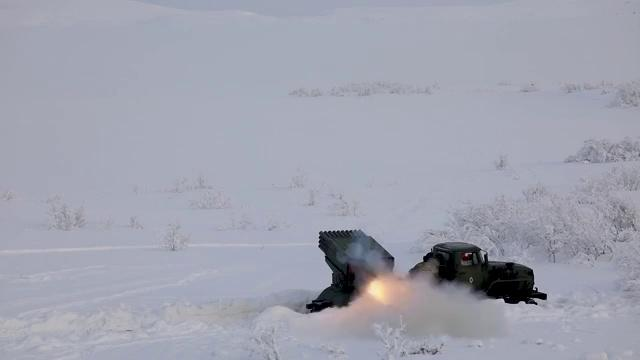MIL_SAM_TEL: (303, 226, 544, 317)
